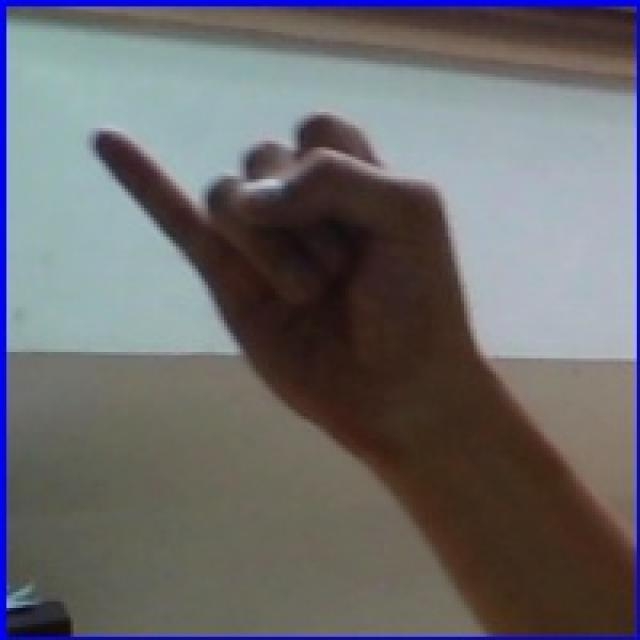J: (56, 47, 549, 505)
